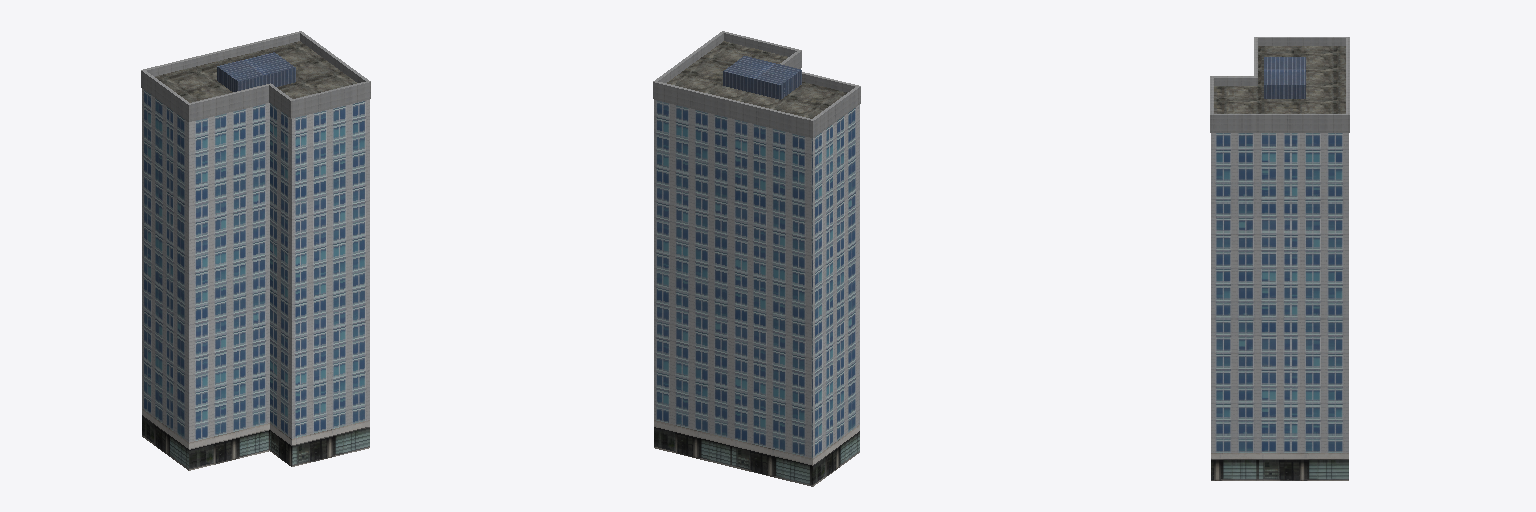
3 renders of one model, left to right at view 1: azimuth 30°, elevation 25°; view 2: azimuth 150°, elevation 25°; view 3: azimuth 270°, elevation 25°, orthographic.
Parts seen in each view (by area): view 1: building_11; view 2: building_11; view 3: building_11.
Part boxes in pixels (x1,y1,x2,y2): building_11: (141, 31, 370, 470); building_11: (653, 31, 860, 486); building_11: (1210, 37, 1349, 480).
Bounding box in the file's own units: 97.5 × 216 × 73.34.
Materials: 1 (1 with a texture image).